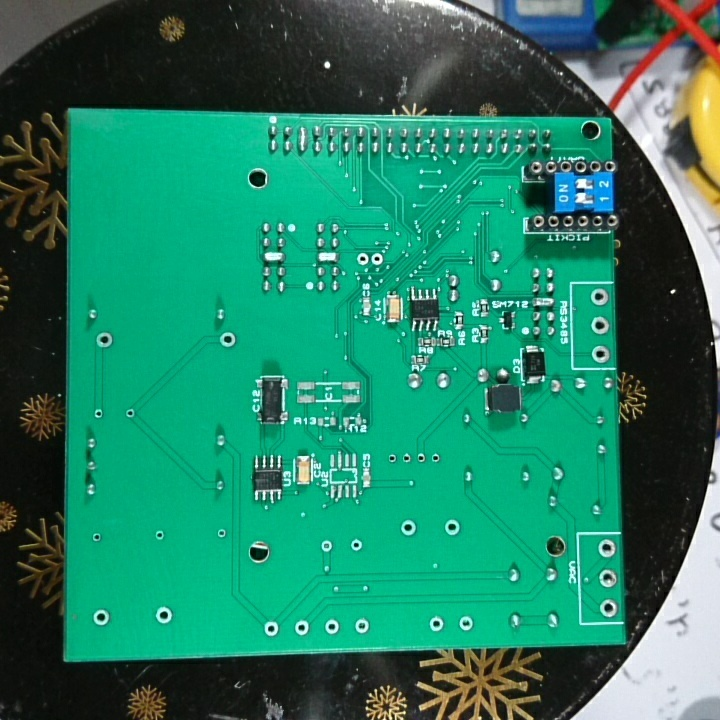F: (594, 537, 619, 561), (152, 603, 175, 629), (90, 606, 113, 629), (588, 343, 612, 365), (590, 313, 611, 338), (597, 568, 620, 590), (94, 329, 116, 352), (589, 286, 610, 309), (218, 328, 239, 350), (293, 617, 312, 640), (262, 617, 281, 640), (456, 612, 476, 633), (353, 615, 371, 638), (599, 597, 620, 616), (443, 517, 462, 538), (399, 517, 418, 538), (323, 616, 342, 637), (347, 537, 366, 555), (427, 614, 445, 632), (318, 537, 336, 555), (427, 449, 443, 469), (367, 249, 384, 267), (153, 526, 169, 544), (355, 249, 369, 269), (214, 526, 230, 542), (92, 404, 107, 421), (384, 451, 399, 466), (414, 451, 428, 466), (90, 529, 104, 543), (123, 406, 137, 420), (400, 452, 413, 465)
P: (296, 123, 309, 156), (530, 295, 558, 309), (261, 249, 285, 265), (316, 249, 339, 263)
